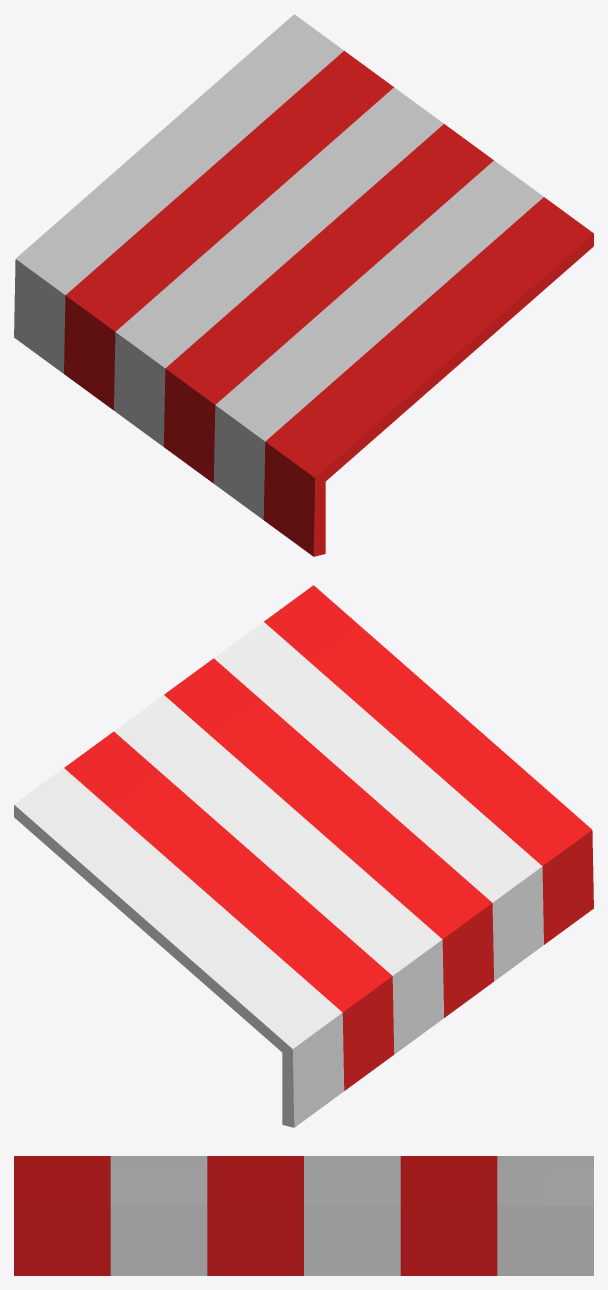
Rendered from Awning_2_A.fbx.
3 views of the same model, one above another, from view 1: azimuth 30°, elevation 25°; view 2: azimuth 150°, elevation 25°; view 3: azimuth 270°, elevation 25° (orthographic). The views are drawn at different scales.
Parts seen in each view (by area): view 1: Awning_2_A; view 2: Awning_2_A; view 3: Awning_2_A.
Part boxes in pixels (box(x1,y1,x2,y2)): Awning_2_A: box(14, 14, 593, 556); Awning_2_A: box(14, 585, 593, 1127); Awning_2_A: box(14, 1156, 593, 1275).
Bounding box in the file's own units: 111 × 96.45 × 205.
